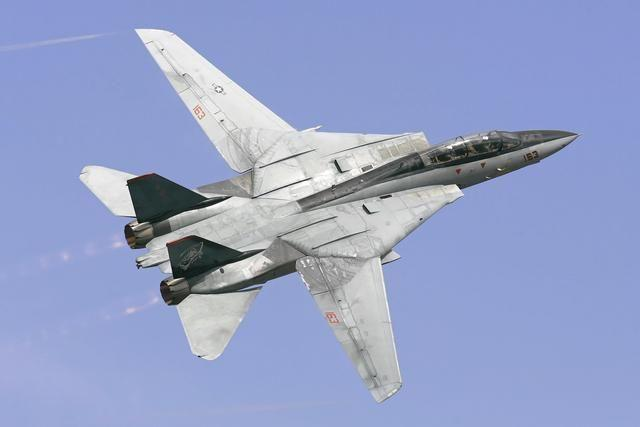airplane: (55, 26, 577, 401)
